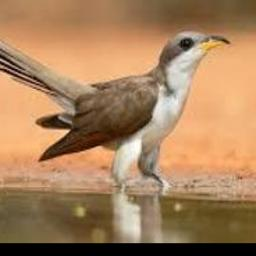Cuckoo: (0, 21, 231, 189)
